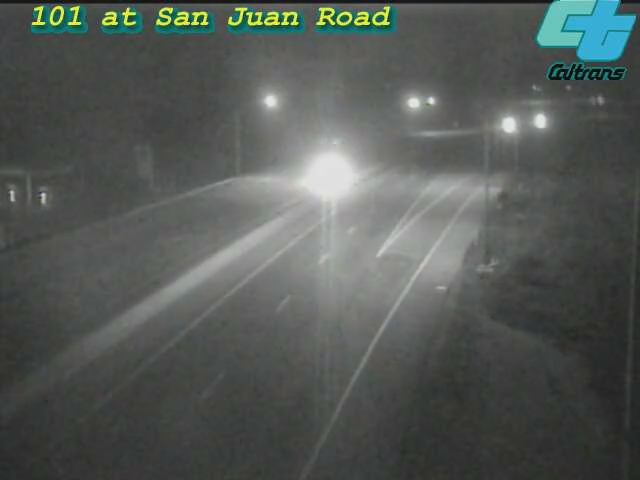vehicle: (289, 132, 369, 212), (485, 98, 535, 148), (515, 95, 565, 145)
